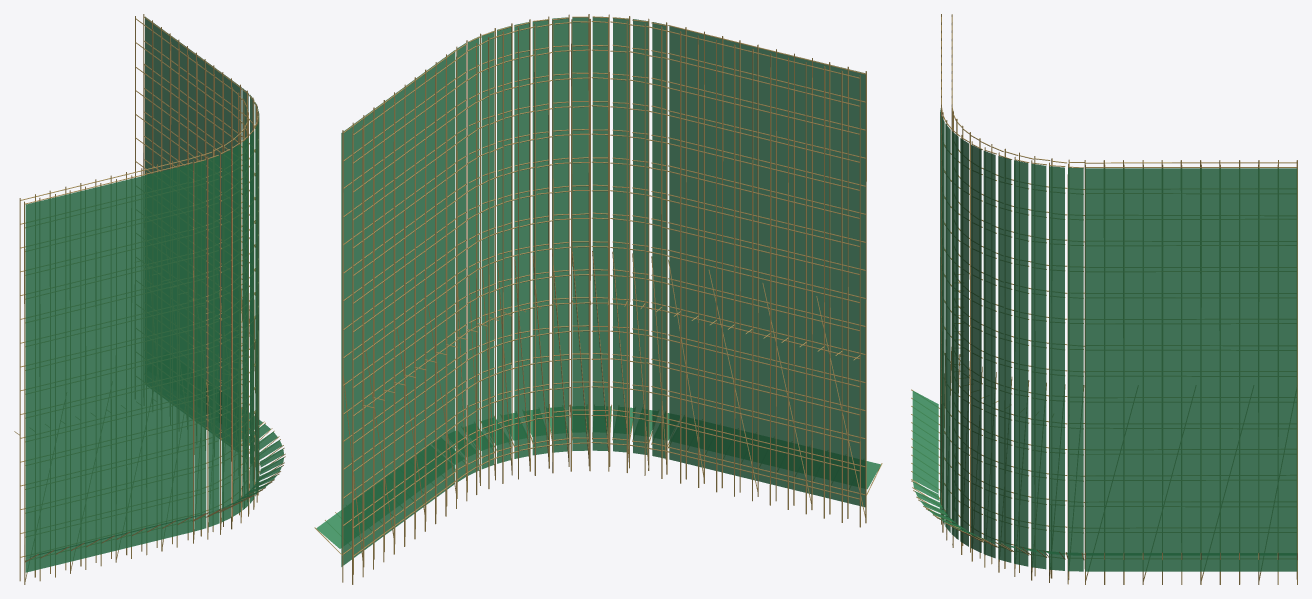
The model's file is hk-composite-curve-scaffold.glb.
3 views of the same model, side by side, from view 1: azimuth 30°, elevation 25°; view 2: azimuth 150°, elevation 25°; view 3: azimuth 270°, elevation 25° (orthographic). The views are drawn at different scales.
Visible parts, largest first — view 1: Scaffold_net, Scaffold_bamboo; view 2: Scaffold_net, Scaffold_bamboo; view 3: Scaffold_net, Scaffold_bamboo.
Boxes of the visible parts, bbox=[...] form: Scaffold_net: bbox=[25, 16, 283, 572]; Scaffold_bamboo: bbox=[14, 14, 285, 584]; Scaffold_net: bbox=[316, 16, 880, 566]; Scaffold_bamboo: bbox=[314, 14, 882, 584]; Scaffold_net: bbox=[912, 108, 1297, 571]; Scaffold_bamboo: bbox=[911, 14, 1297, 584].
Bounding box in the file's own units: 25.58 × 30.6 × 25.56.
